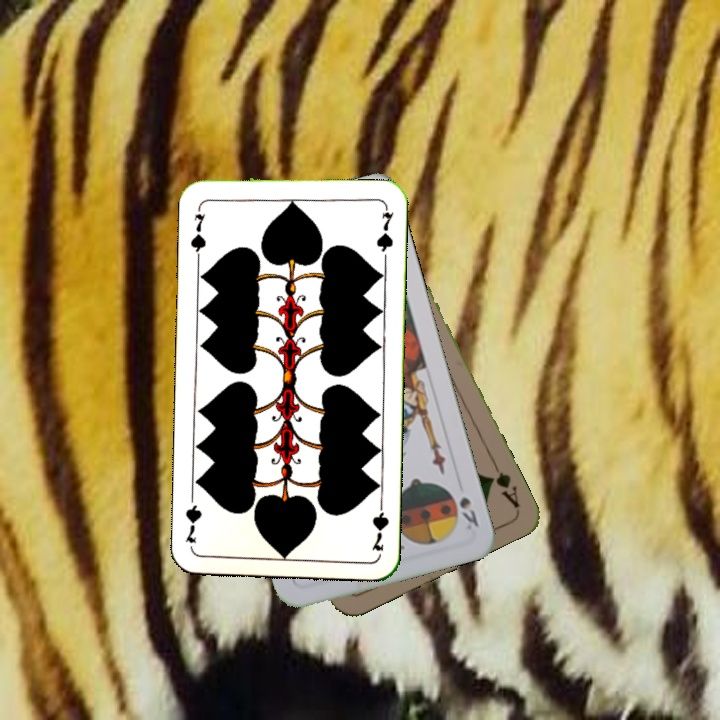G7: (367, 495, 391, 554), (186, 201, 209, 260)
GA: (485, 456, 522, 511)
SK: (455, 492, 482, 533)
